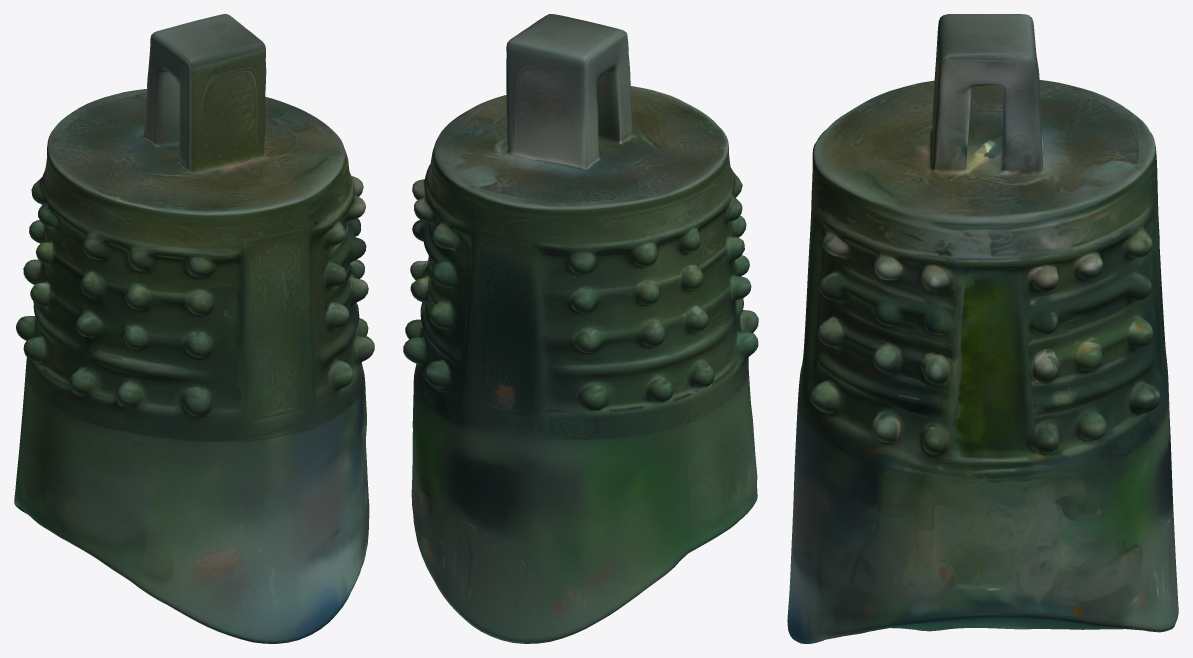
The model's file is chime.fbx.
3 renders of one model, left to right at view 1: azimuth 30°, elevation 25°; view 2: azimuth 150°, elevation 25°; view 3: azimuth 270°, elevation 25°, orthographic. The views are drawn at different scales.
Parts seen in each view (by area): view 1: tripo_node_c091e5cc; view 2: tripo_node_c091e5cc; view 3: tripo_node_c091e5cc.
Boxes of the visible parts, left/top/right/bottom form: tripo_node_c091e5cc: left=14, top=14, right=374, bottom=643; tripo_node_c091e5cc: left=403, top=14, right=758, bottom=643; tripo_node_c091e5cc: left=787, top=14, right=1178, bottom=643.
Bounding box in the file's own units: 58.52 × 99.96 × 59.09.
Materials: 1 (1 with a texture image).
